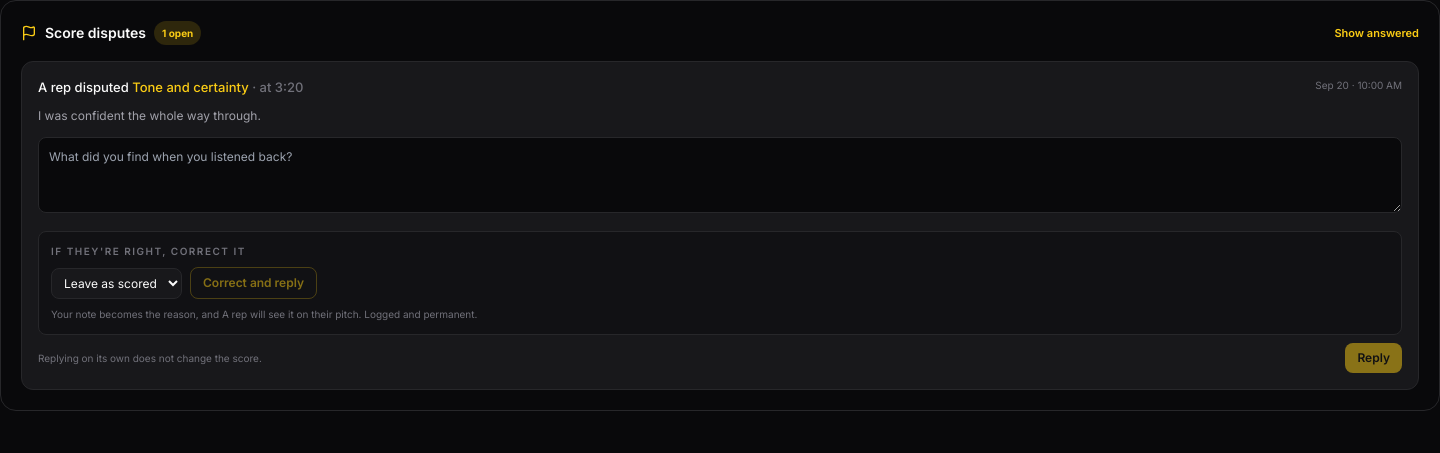
correcting the score from the queue › does not report a landed correction as a failure when only the reply failed
Expected: the text "A rep disputed Tone and certainty · at 3:20" is shown, [38,78,303,98]
In the text box named "Reply to this dispute": (720, 175) [38,137,1402,213], type "ok"
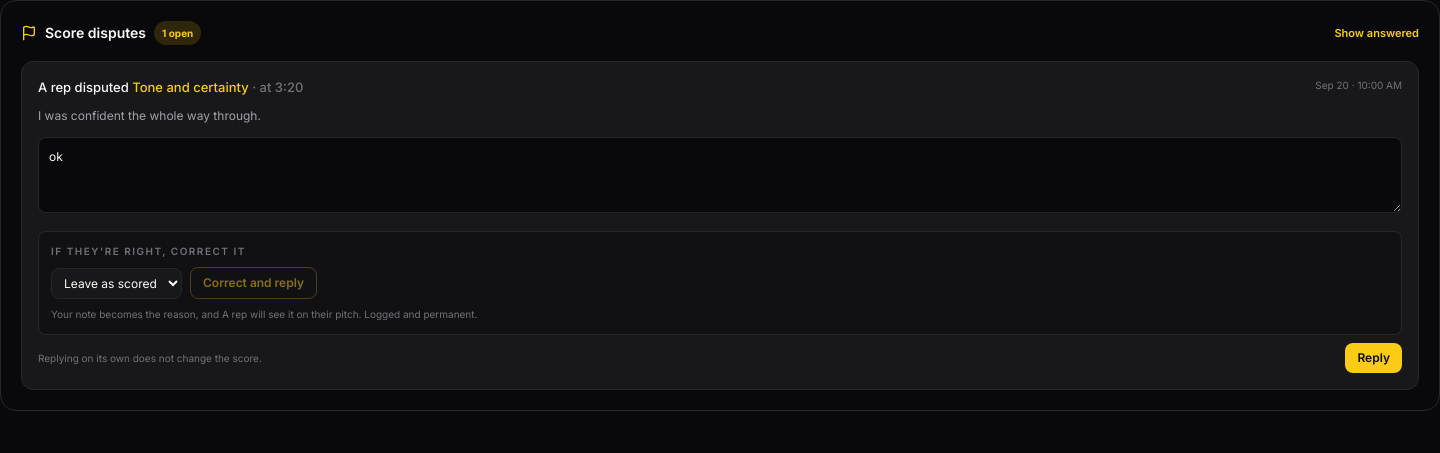
Select "Hit" in the dropdown labelled "If they're right, correct it": (116, 283) [51,268,182,298]
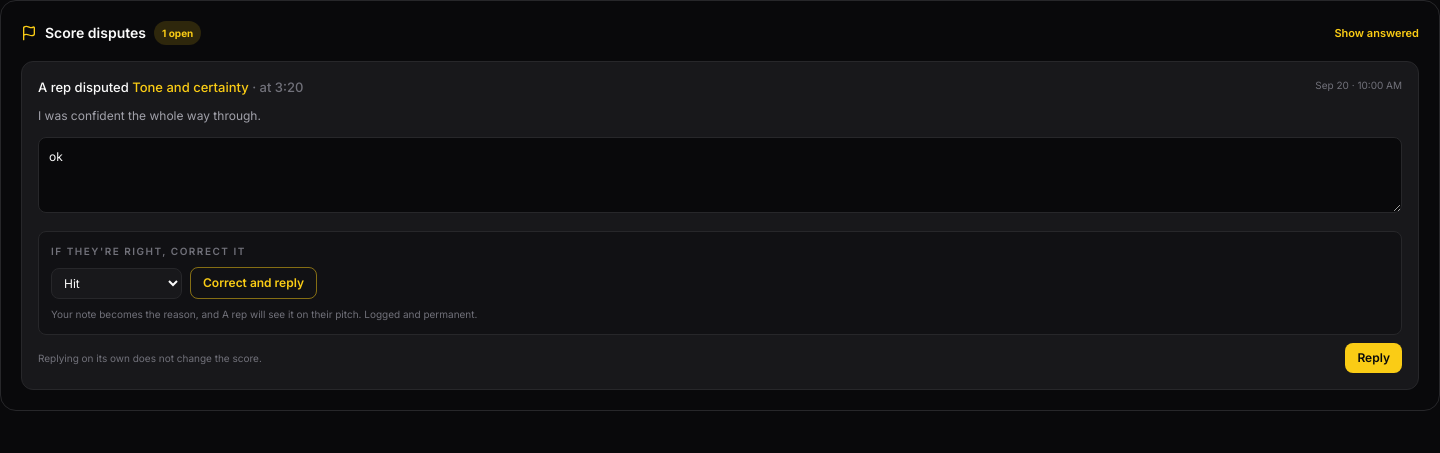
Click the button "Correct and reply": (254, 283) [190,267,317,299]
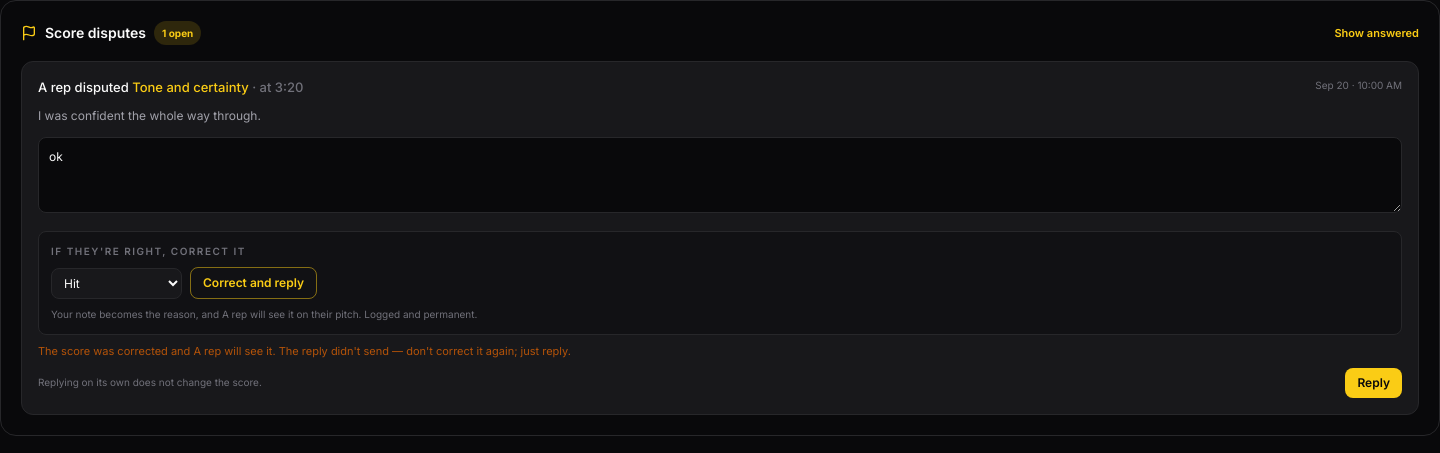
Expected: the text "score was corrected" is shown, [38,344,193,358]
Expected: the text "don't correct it again" is shown, [221,344,571,358]
